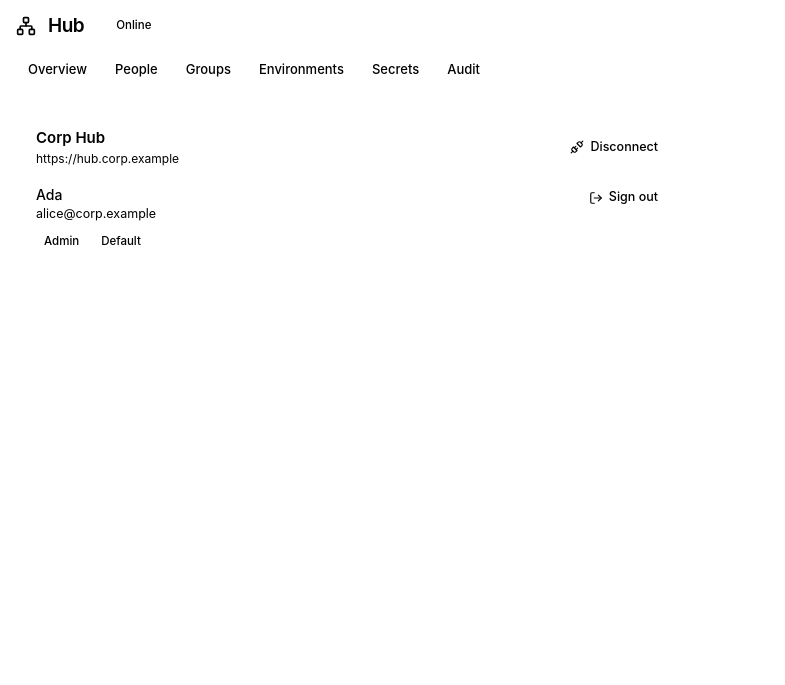
HubPage › Default group has no delete or rename
This screenshot has width=785, height=685.
Click the tab "Groups": (208, 70) [174,52,243,88]
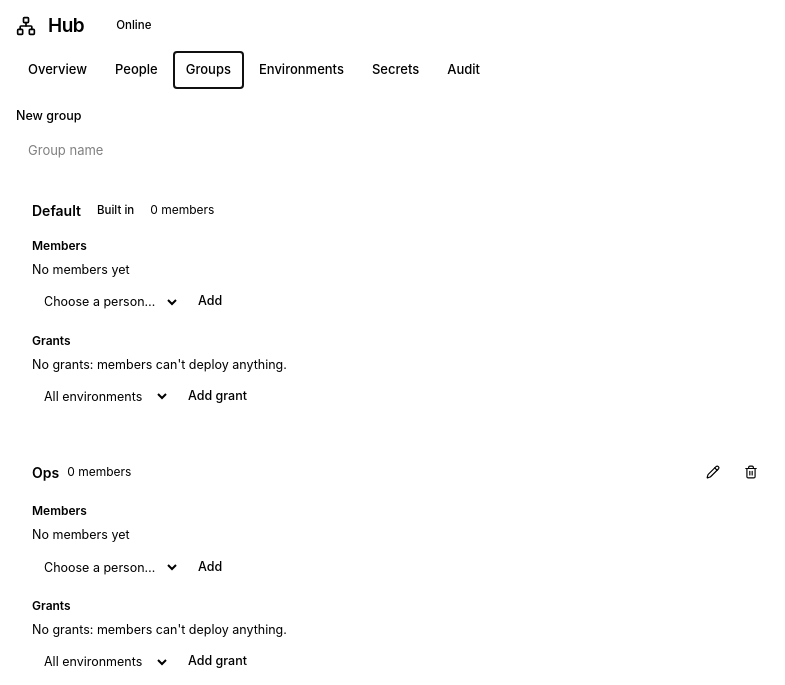
expect the text "Built in" is shown: met, box [97,202,134,216]
expect the button named "Delete Ops" is shown: met, box [734,458,768,486]
expect the button named "Rename Ops" is shown: met, box [696,458,730,486]
